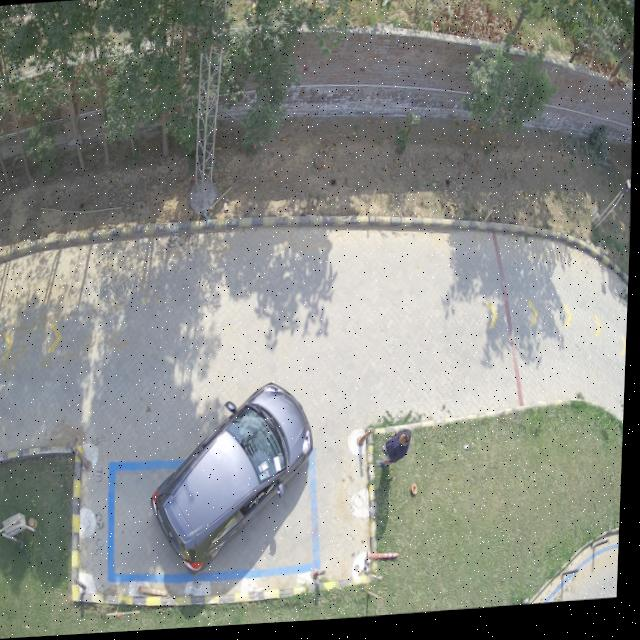car: (155, 387, 317, 575)
